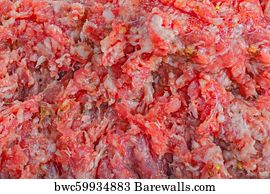ground_beef: (1, 1, 267, 176)
